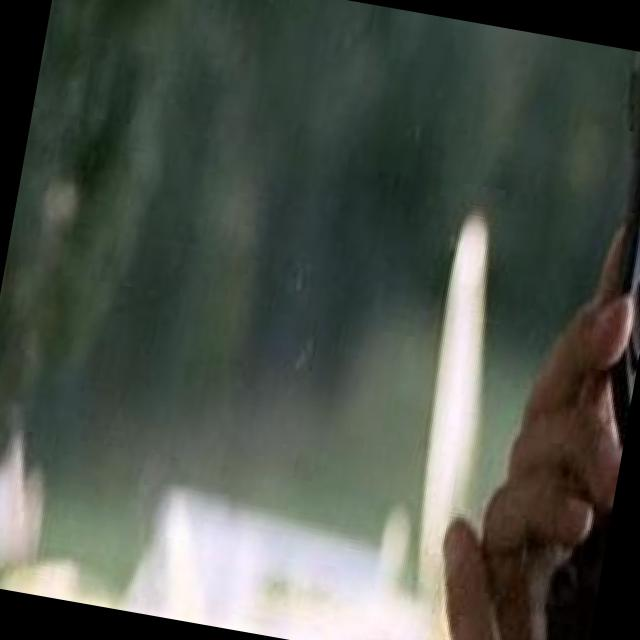Guns: (469, 41, 640, 640)
